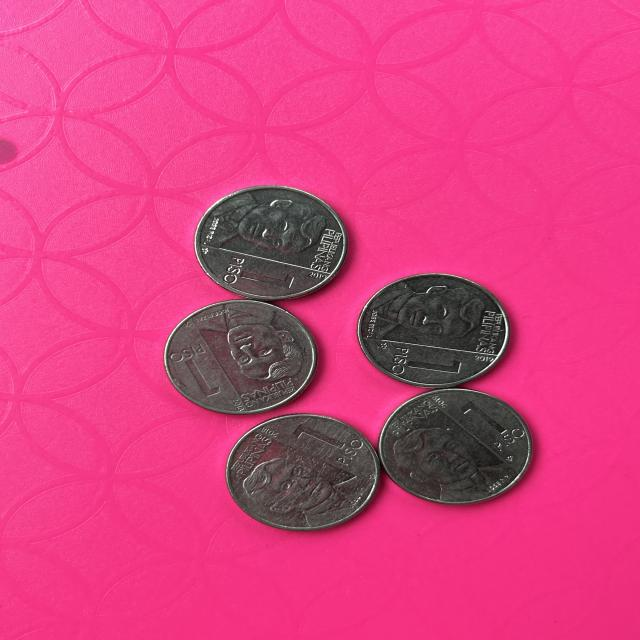1_New_Front: (450, 395, 519, 449), (290, 420, 364, 468), (164, 344, 225, 400), (382, 342, 466, 382), (217, 254, 300, 294)
